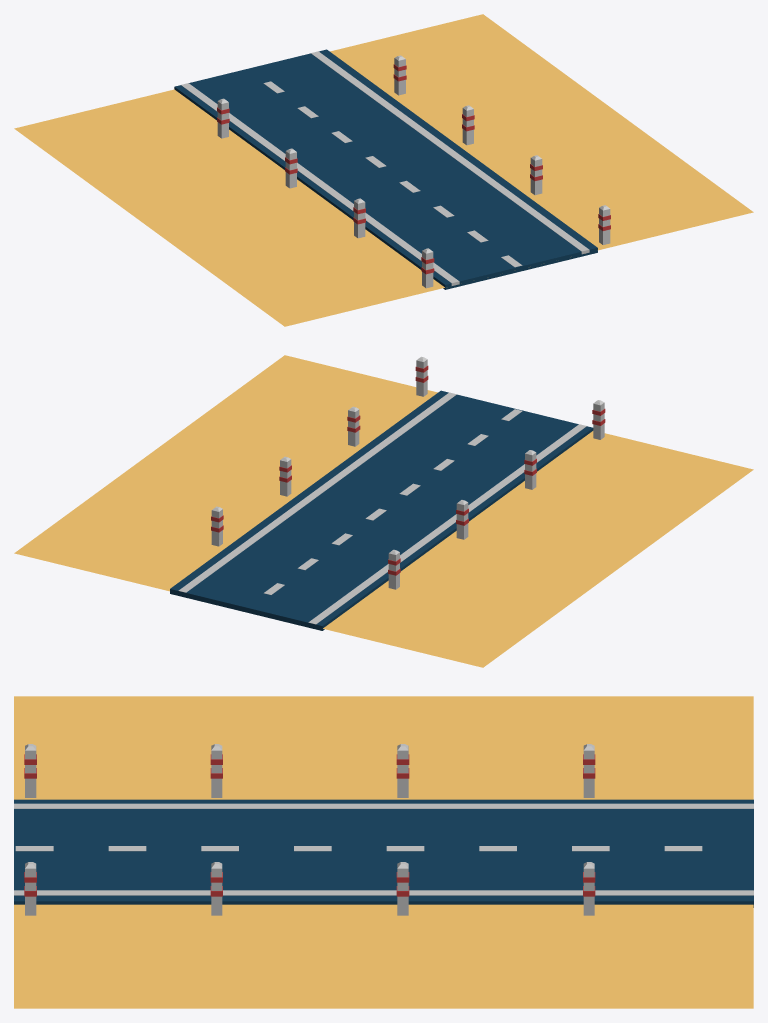
File: Road.glb
3 renders of one model, top to bottom at view 1: azimuth 30°, elevation 25°; view 2: azimuth 150°, elevation 25°; view 3: azimuth 270°, elevation 25°, orthographic. The views are drawn at different scales.
Parts seen in each view (by area): view 1: Plane, Node; view 2: Plane, Node; view 3: Plane, Node.
Part boxes in pixels (x1,y1,x2,y2): Plane: (14, 14, 753, 326); Node: (174, 49, 610, 289); Plane: (14, 355, 753, 667); Node: (170, 356, 605, 630); Plane: (14, 696, 753, 1008); Node: (14, 744, 753, 915).
Size of the model in its own units: 10.01 by 0.7979 by 10.01.
2 materials, 1 textured.
